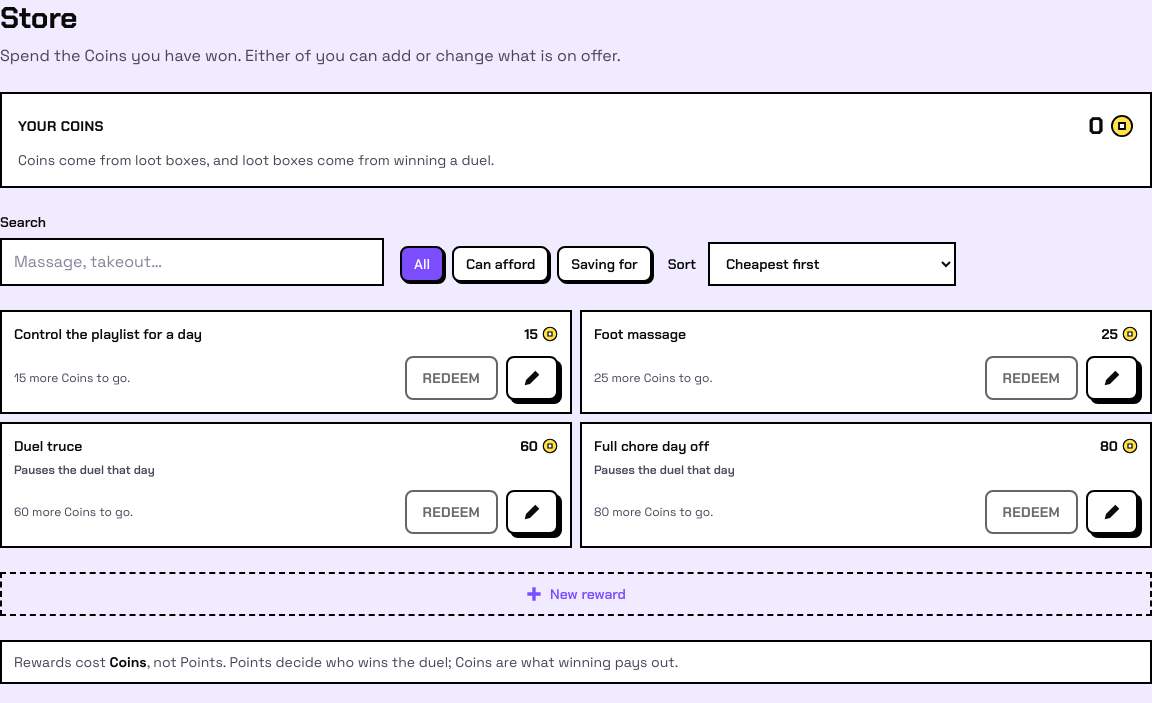
Test case: managing rewards › opens an editor pre-filled from a reward’s own Edit button
Expected: the heading "Foot massage" is shown, x1=594 y1=324 x2=686 y2=344
What coordinates should you click on to do the following:
click the button named "edit foot massage"
I would click on:
 (1112, 378)
Its box is x1=1086 y1=356 x2=1138 y2=400.
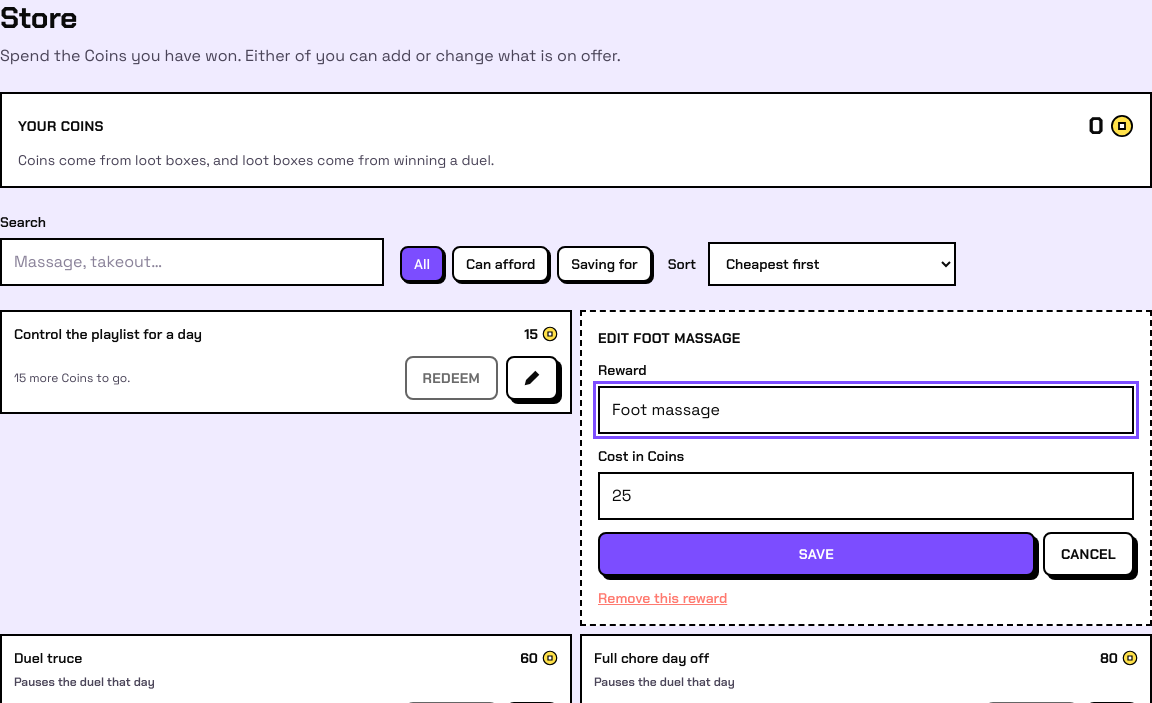
Expected: the field labelled "Reward" holds "Foot massage", x1=598 y1=386 x2=1134 y2=434
Expected: the number field labelled "Cost in Coins" holds "25", x1=598 y1=472 x2=1134 y2=520
Expected: the button "Remove this reward" is shown, x1=598 y1=588 x2=727 y2=608
